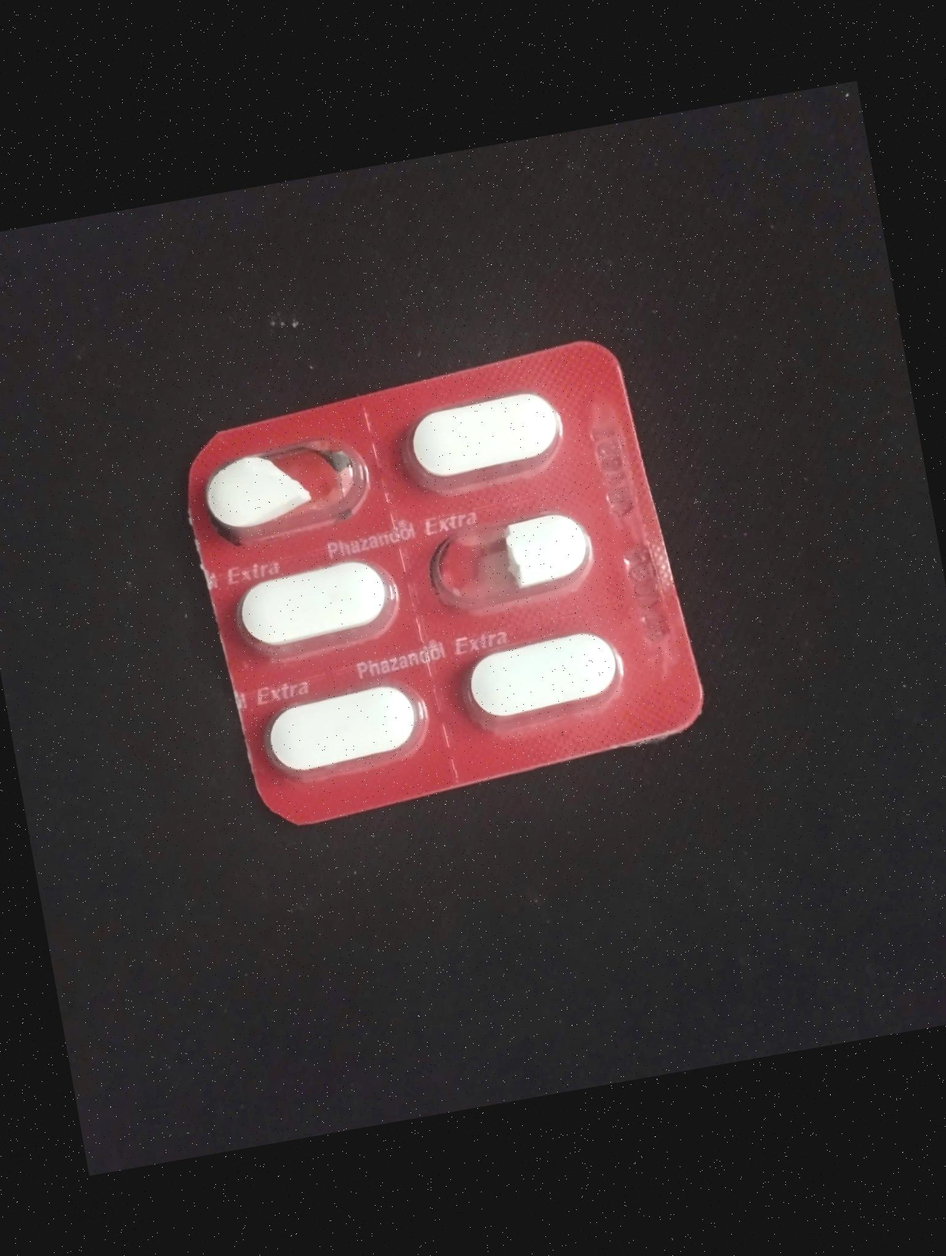Full: (437, 608, 648, 749), (250, 665, 436, 800), (388, 375, 574, 505), (232, 551, 406, 660)
Partial: (185, 416, 372, 554), (416, 500, 593, 620)
